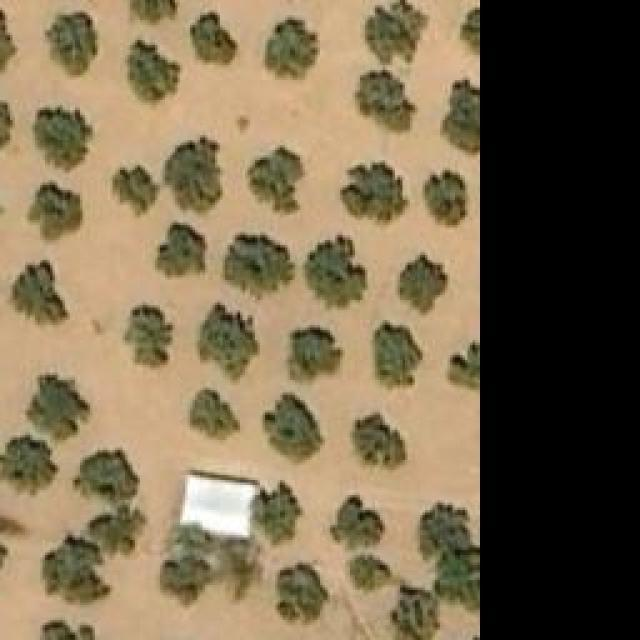Tree: (223, 228, 297, 296), (163, 135, 223, 218), (305, 235, 367, 312), (340, 160, 408, 230), (198, 305, 261, 380), (263, 393, 326, 466), (28, 375, 93, 445), (8, 258, 71, 328), (370, 322, 433, 390), (40, 545, 108, 605), (360, 0, 423, 64), (248, 148, 303, 218), (355, 70, 415, 133), (262, 15, 320, 80), (128, 40, 181, 110), (25, 180, 83, 243), (350, 410, 408, 473), (323, 495, 386, 553), (247, 483, 305, 546), (35, 108, 90, 173), (123, 303, 173, 373), (287, 325, 345, 385), (400, 250, 453, 315), (275, 563, 328, 626), (48, 13, 98, 78), (150, 223, 208, 278), (75, 450, 135, 503), (433, 540, 484, 602), (190, 10, 243, 68), (0, 433, 58, 486), (423, 168, 473, 228), (188, 388, 241, 443), (443, 78, 478, 161), (88, 505, 148, 553), (414, 500, 468, 551), (110, 165, 160, 220), (390, 590, 443, 640), (158, 558, 210, 608), (343, 553, 395, 597), (445, 343, 478, 403), (0, 0, 18, 78), (35, 620, 105, 640), (128, 0, 181, 25), (0, 85, 15, 150), (460, 7, 478, 55)
